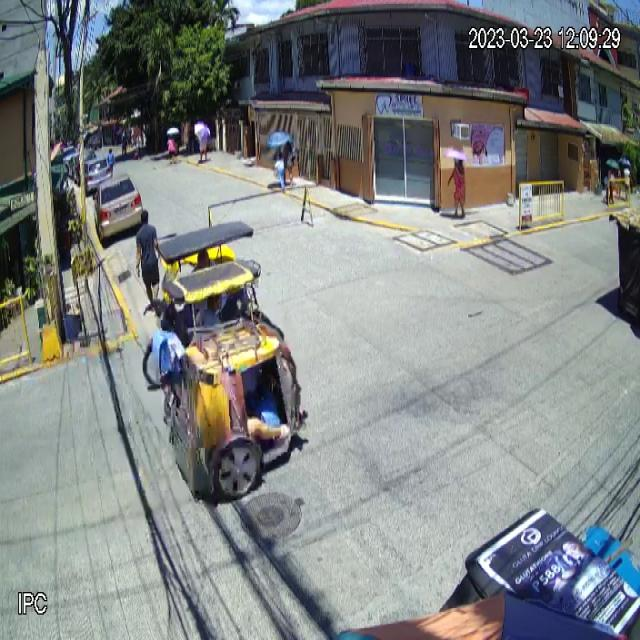Tricycle: (156, 256, 308, 507)
